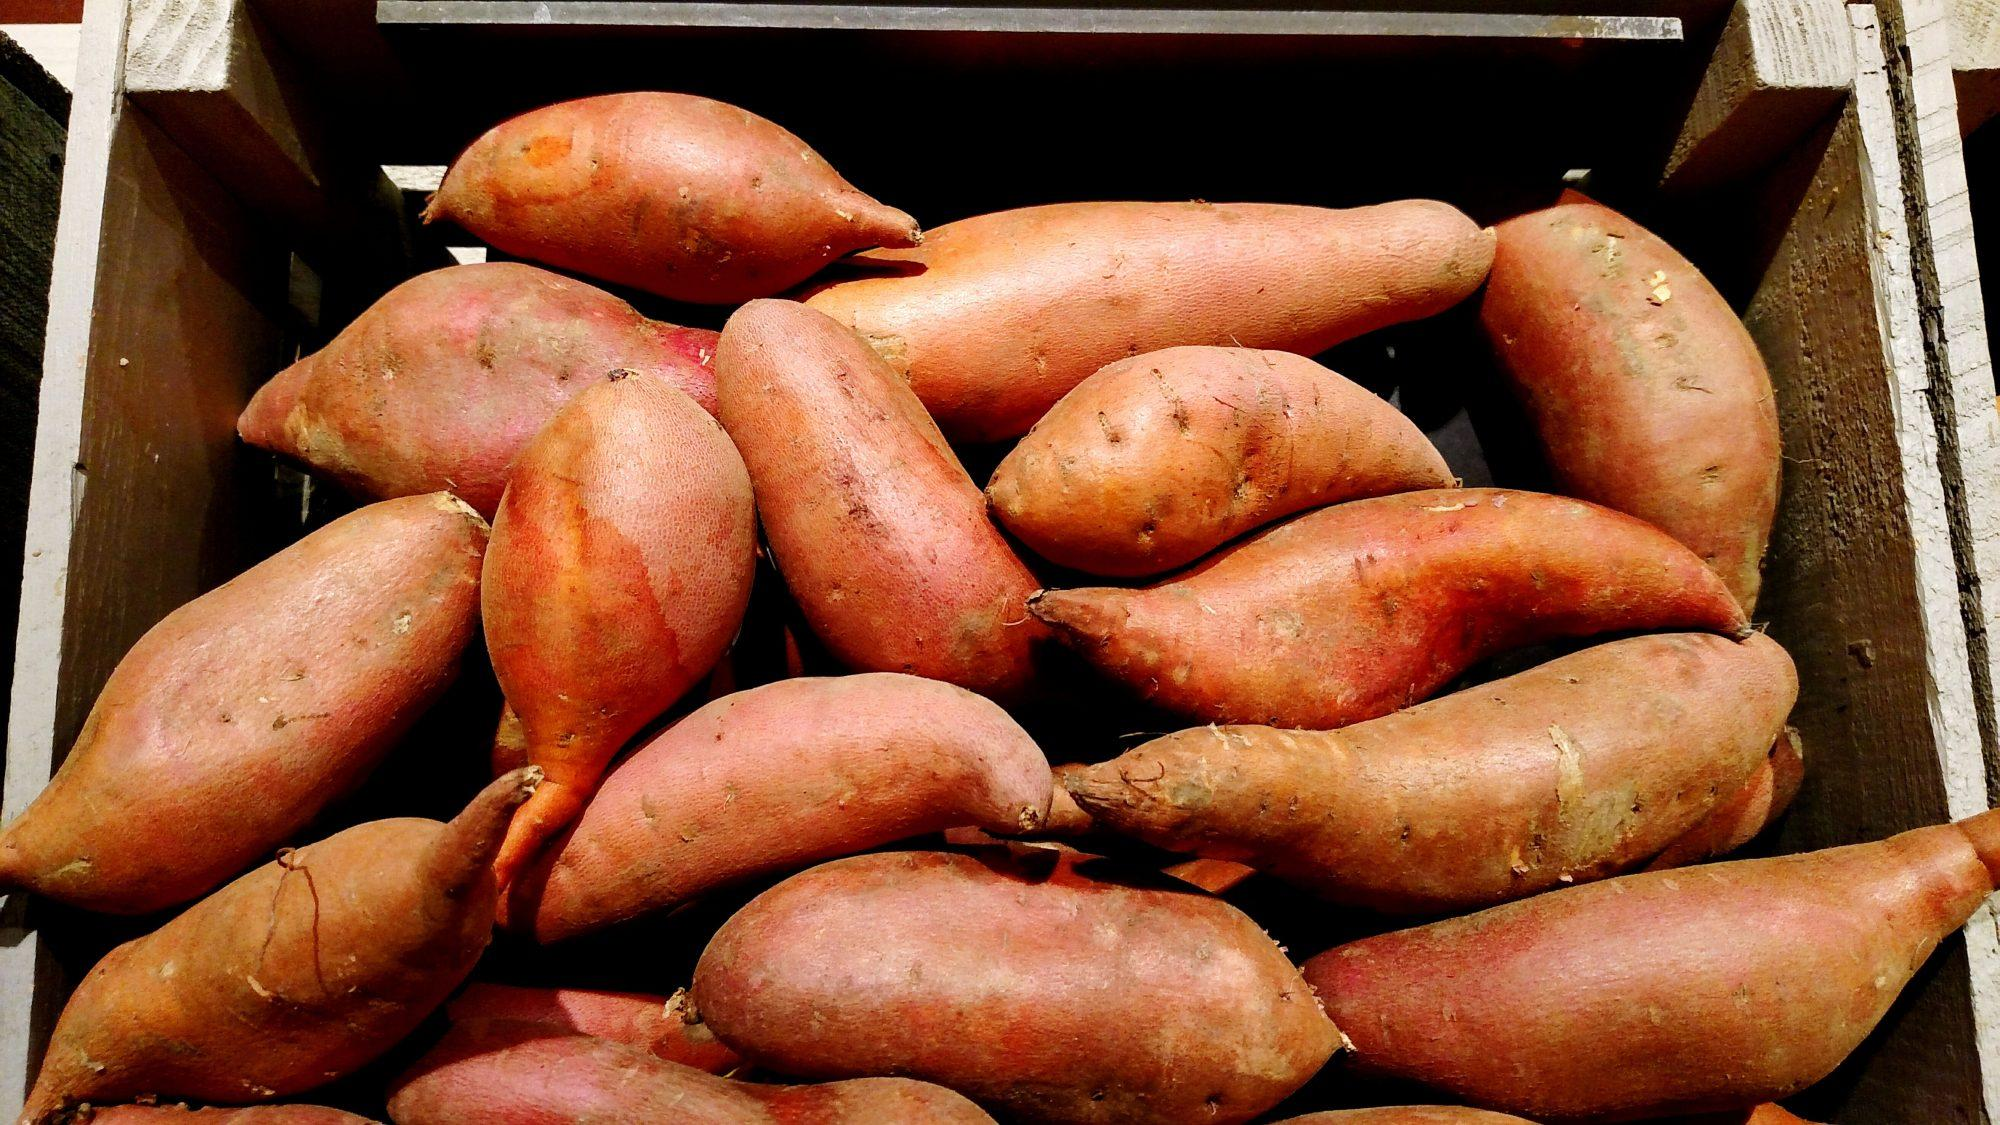sweetpotato: (5, 91, 1984, 1120), (235, 194, 1500, 512), (1297, 805, 1996, 1120), (1054, 624, 1805, 907), (1, 488, 490, 913), (681, 837, 1354, 1121), (16, 762, 543, 1122), (1023, 484, 1751, 729), (799, 194, 1499, 440), (477, 365, 757, 929), (525, 668, 1076, 944), (712, 295, 1049, 694), (1478, 187, 1784, 621), (234, 258, 723, 515), (984, 341, 1462, 577), (418, 87, 923, 304), (385, 1030, 999, 1124), (440, 981, 747, 1078), (1648, 721, 1804, 870), (70, 1098, 385, 1124), (1264, 1102, 1543, 1124)
